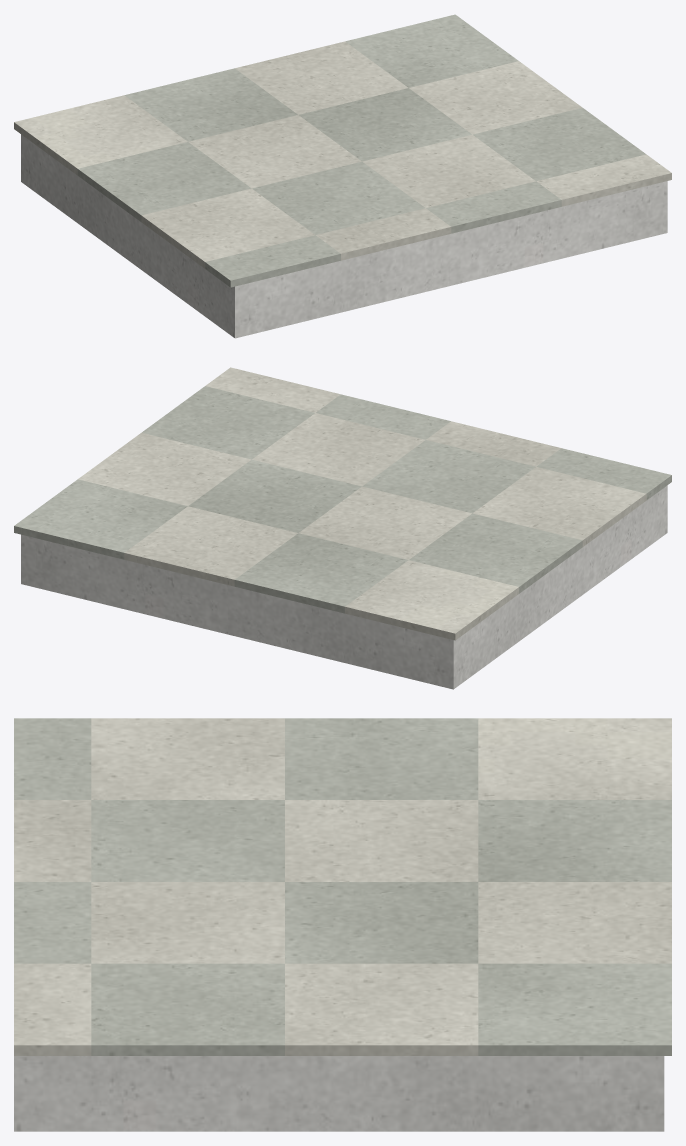
Rendered from floor_vct_u_e0_0_0_30.glb.
3 renders of one model, top to bottom at view 1: azimuth 30°, elevation 25°; view 2: azimuth 150°, elevation 25°; view 3: azimuth 270°, elevation 25°, orthographic. The views are drawn at different scales.
Visible parts, largest first — view 1: floor_vct_u_e0_0_0_30_vct, floor_vct_u_e0_0_0_30_vct2, floor_vct_u_e0_0_0_30_plaster; view 2: floor_vct_u_e0_0_0_30_vct, floor_vct_u_e0_0_0_30_vct2, floor_vct_u_e0_0_0_30_plaster; view 3: floor_vct_u_e0_0_0_30_vct2, floor_vct_u_e0_0_0_30_vct, floor_vct_u_e0_0_0_30_plaster.
Boxes of the visible parts, x1,y1,x2,y2 form: floor_vct_u_e0_0_0_30_vct: [14, 41, 671, 268]; floor_vct_u_e0_0_0_30_vct2: [77, 14, 645, 287]; floor_vct_u_e0_0_0_30_plaster: [21, 134, 667, 338]; floor_vct_u_e0_0_0_30_vct: [78, 367, 646, 640]; floor_vct_u_e0_0_0_30_vct2: [14, 386, 671, 613]; floor_vct_u_e0_0_0_30_plaster: [21, 485, 667, 689]; floor_vct_u_e0_0_0_30_vct2: [14, 718, 671, 1055]; floor_vct_u_e0_0_0_30_vct: [14, 718, 671, 1055]; floor_vct_u_e0_0_0_30_plaster: [14, 1056, 664, 1131].
Bounding box in the file's own units: 2 × 0.255 × 1.7.
3 materials, 3 textured.
